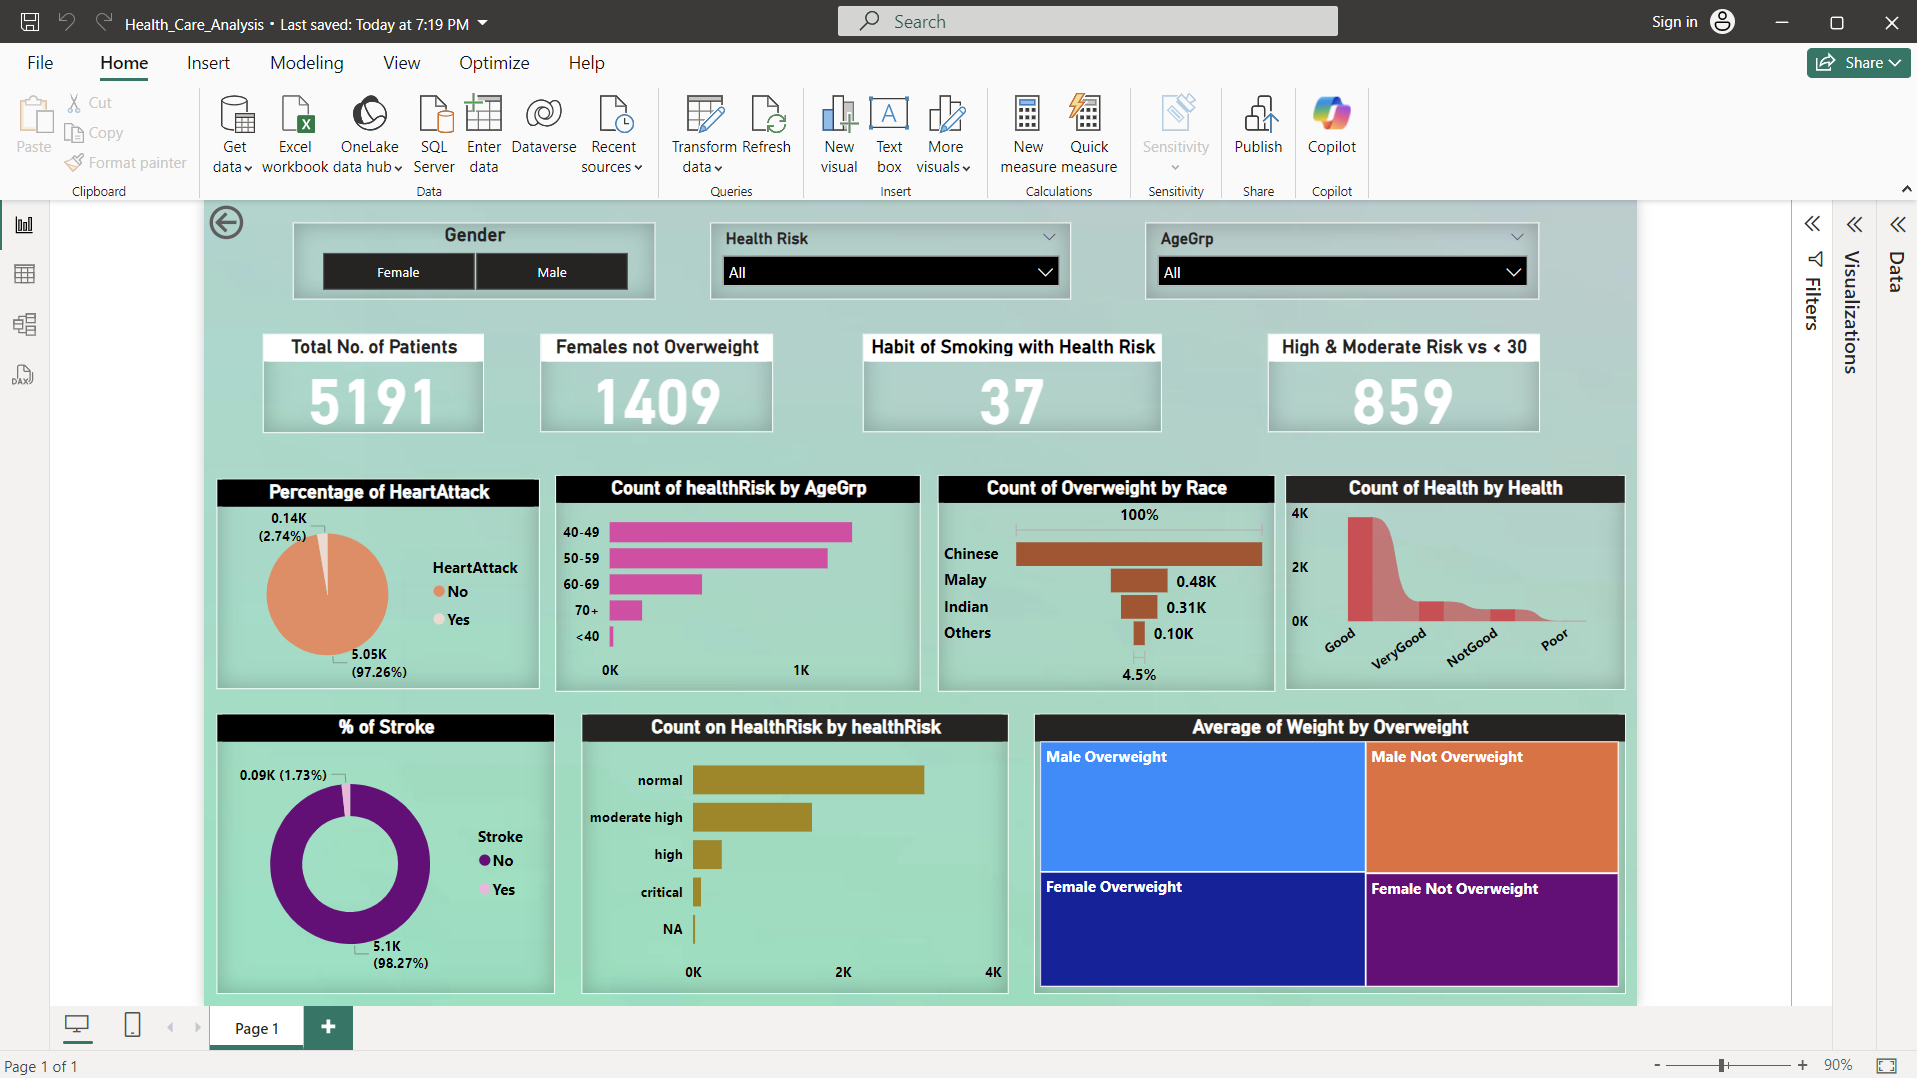

What the dashboard file says about the page in this screenshot:
{"tool":"powerbi","page":{"name":"Page 1","canvas":[1280,720],"ordinal":0},"visuals":[{"type":"card","title":"Total No. of Patients","fields":{"Values":["CountNonNull(Table1.scnZone)"]},"box":[52.4,119.7,197.7,88.8],"z":0},{"type":"actionButton","box":[0,0,100,40],"z":1000},{"type":"pieChart","title":"Percentage of HeartAttack","fields":{"Category":["Table1.HeartAttack"],"Y":["CountNonNull(Table1.HeartAttack)"]},"box":[10.8,248.8,289.1,188.3],"z":2000},{"type":"donutChart","title":"% of Stroke","fields":{"Category":["Table1.Stroke"],"Y":["CountNonNull(Table1.Stroke)"]},"box":[10.8,458.6,302.6,250.1],"z":3000},{"type":"card","title":"Females not Overweight","fields":{"Values":["CountNonNull(Table1.Overweight)"]},"box":[300,119.8,208.1,88.4],"z":4000},{"type":"barChart","title":"Count on HealthRisk by healthRisk","fields":{"Category":["Table1.healthRisk"],"Y":["CountNonNull(Table1.healthRisk)"]},"box":[337.6,458.6,381.9,250.1],"z":5000},{"type":"treemap","fields":{"Group":["Table1.Overweight"],"Values":["Avg(Table1.Weight)"]},"box":[741,458.6,528.5,250.1],"z":6000},{"type":"funnel","fields":{"Category":["Table1.Race"],"Y":["CountNonNull(Table1.Overweight)"]},"box":[654.9,246.1,301.2,193.7],"z":7000},{"type":"barChart","fields":{"Category":["Table1.AgeGrp"],"Y":["CountNonNull(Table1.healthRisk)"]},"box":[313.3,246.1,326.8,193.7],"z":8000},{"type":"card","title":"Habit of Smoking with Health Risk","fields":{"Values":["CountNonNull(Table1.Smoking)"]},"box":[588.4,119.8,267.4,88.4],"z":9000},{"type":"card","title":"High & Moderate Risk vs < 30","fields":{"Values":["CountNonNull(Table1.Exercise)"]},"box":[950,119.8,243,88.4],"z":10000},{"type":"slicer","title":"Gender","fields":{"Values":["Table1.Gender"]},"box":[79.3,20.2,324.1,68.6],"z":11000},{"type":"slicer","fields":{"Values":["Table1.healthRisk"]},"box":[451.9,20.2,322.8,68.6],"z":12000},{"type":"slicer","fields":{"Values":["Table1.AgeGrp"]},"box":[840.5,20.2,352.3,68.6],"z":13000},{"type":"ribbonChart","fields":{"Category":["Table1.Health"],"Y":["CountNonNull(Table1.Health)"]},"box":[965.9,245.7,303.7,192.1],"z":14000}]}

Visuals, with their boxes on the page's 1280x720 design canvas (x1, y1, x2, y2). These are canvas units, not pixel positions in the 1917x1078 screenshot, which may show the page scaled, cropped or inside an application window:
"Total No. of Patients" card: x1=52, y1=120, x2=250, y2=208
actionButton: x1=0, y1=0, x2=100, y2=40
"Percentage of HeartAttack" pieChart: x1=11, y1=249, x2=300, y2=437
"% of Stroke" donutChart: x1=11, y1=459, x2=313, y2=709
"Females not Overweight" card: x1=300, y1=120, x2=508, y2=208
"Count on HealthRisk by healthRisk" barChart: x1=338, y1=459, x2=720, y2=709
treemap - Table1.Overweight x Avg(Table1.Weight): x1=741, y1=459, x2=1270, y2=709
funnel - Table1.Race x CountNonNull(Table1.Overweight): x1=655, y1=246, x2=956, y2=440
barChart - Table1.AgeGrp x CountNonNull(Table1.healthRisk): x1=313, y1=246, x2=640, y2=440
"Habit of Smoking with Health Risk" card: x1=588, y1=120, x2=856, y2=208
"High & Moderate Risk vs < 30" card: x1=950, y1=120, x2=1193, y2=208
"Gender" slicer: x1=79, y1=20, x2=403, y2=89
slicer - Table1.healthRisk: x1=452, y1=20, x2=775, y2=89
slicer - Table1.AgeGrp: x1=840, y1=20, x2=1193, y2=89
ribbonChart - Table1.Health x CountNonNull(Table1.Health): x1=966, y1=246, x2=1270, y2=438
